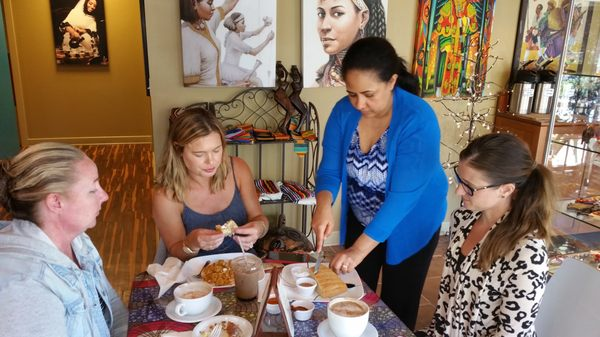sushi: (173, 280, 214, 317)
